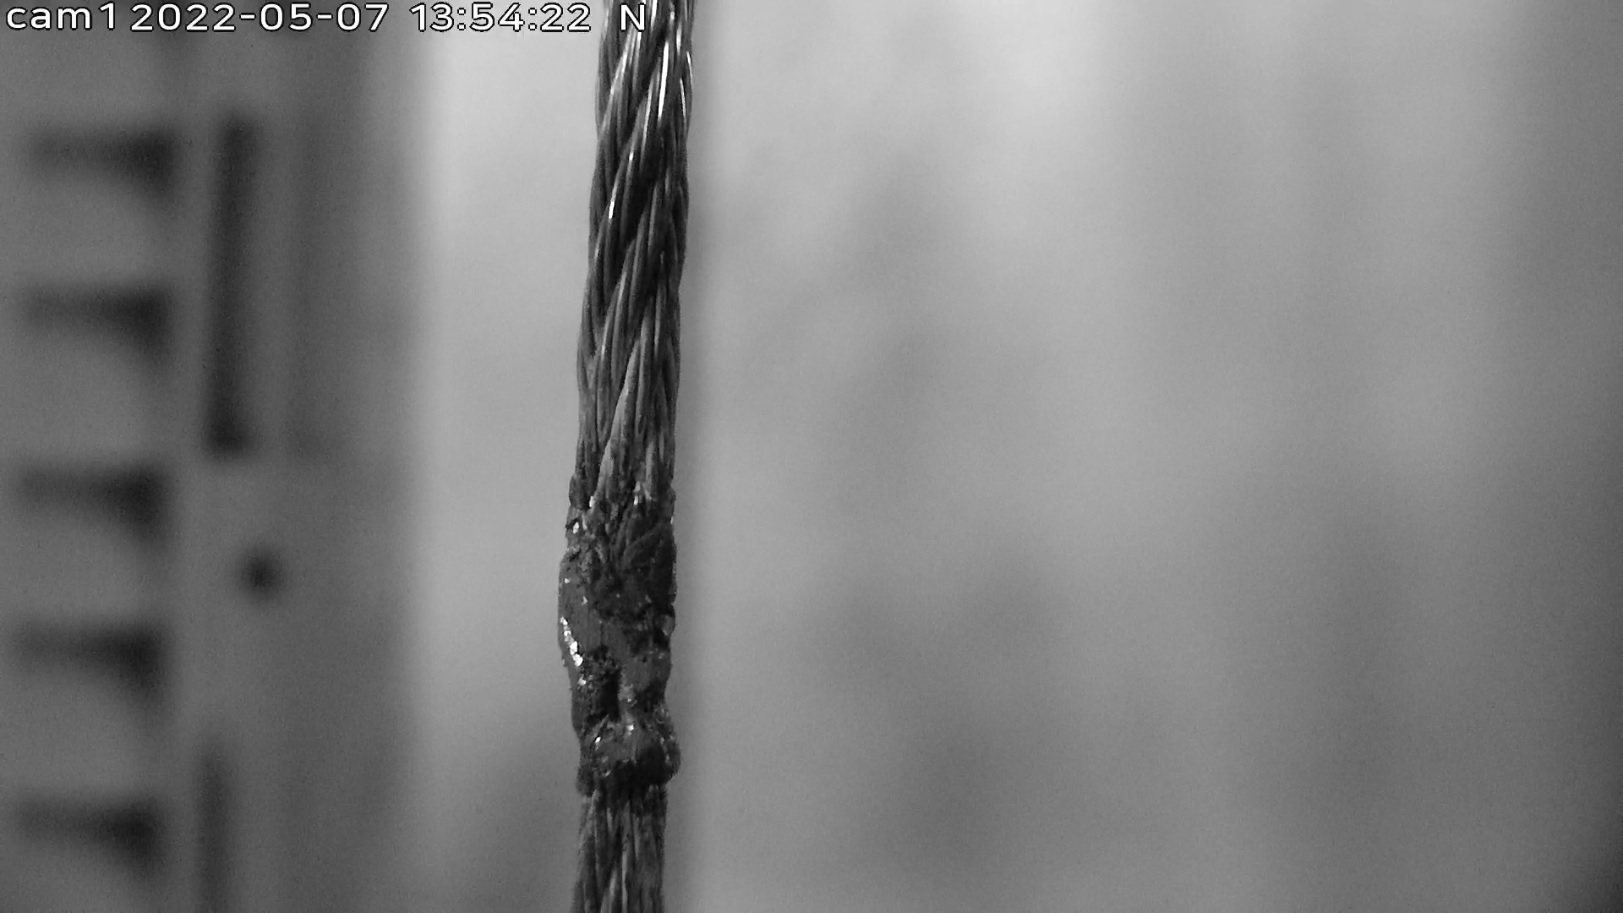spike: (552, 491, 690, 817)
